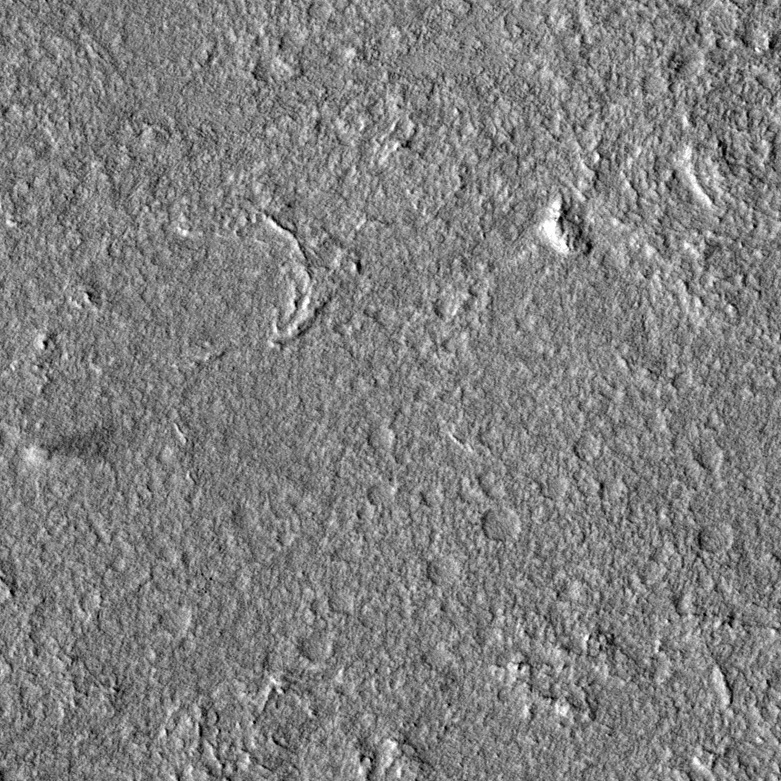dust_devil: (19, 421, 120, 469)
